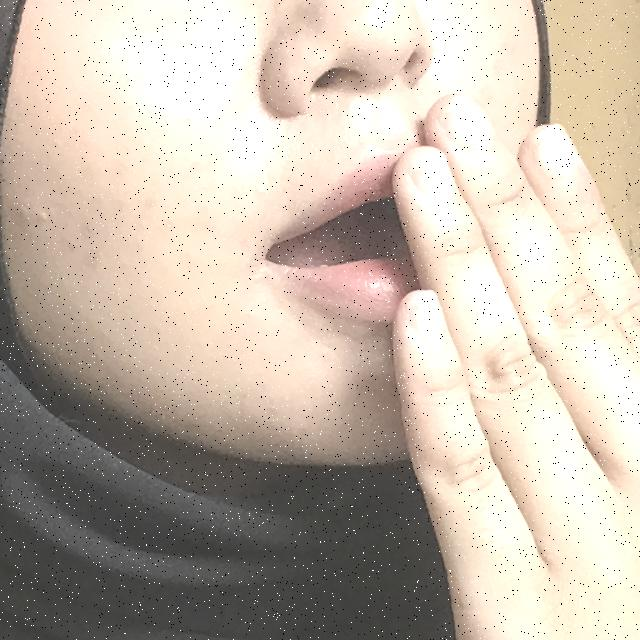ngantuk: (210, 86, 640, 640)
